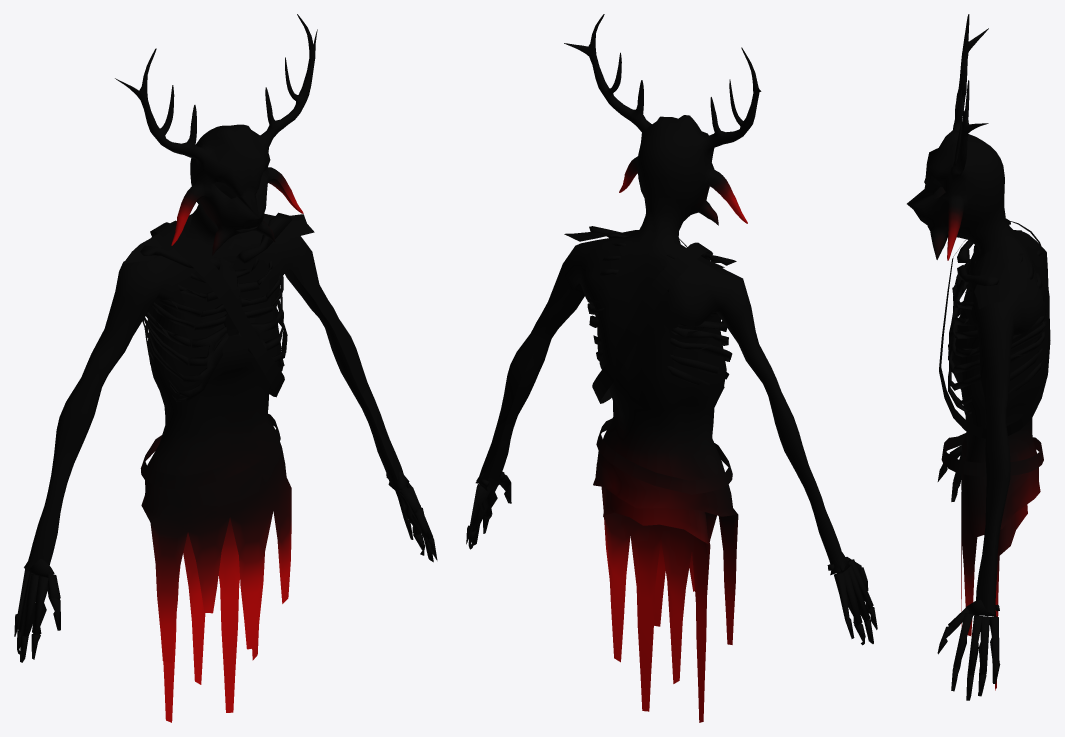
File: deamom02.FBX
3 views of the same model, side by side, from view 1: azimuth 30°, elevation 25°; view 2: azimuth 150°, elevation 25°; view 3: azimuth 270°, elevation 25° (orthographic). The views are drawn at different scales.
Parts seen in each view (by area): view 1: Demon03; view 2: Demon03; view 3: Demon03.
Part boxes in pixels (bbox=[...]): Demon03: bbox=[14, 14, 437, 722]; Demon03: bbox=[466, 14, 877, 722]; Demon03: bbox=[907, 14, 1050, 700].
Size of the model in its own units: 65.85 by 106 by 20.73.
